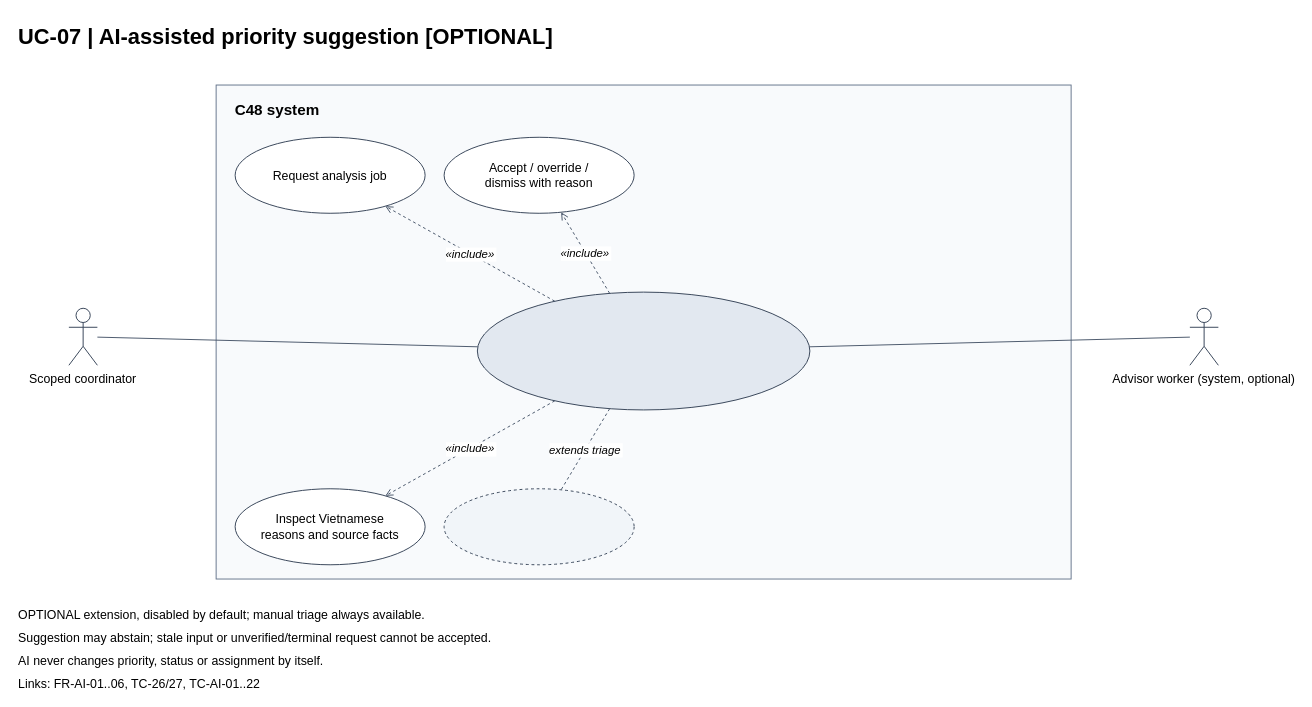
This 1312x707 diagram has some shape labels left out. The shapes that lost their labels are listed below. From the top down, each one's centre as x and y in pixels, then its label:
At point 643,350: "UC-07 AI-assisted priority suggestion".
At point 538,526: "UC-02 Verify and triage".
